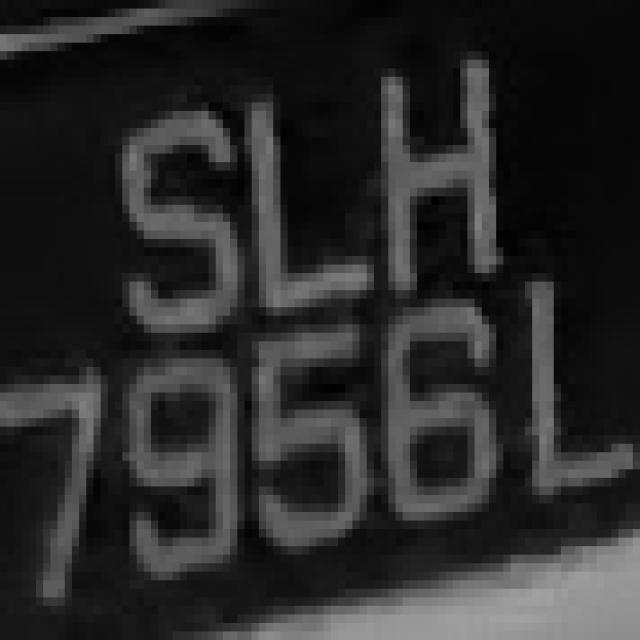5: (223, 307, 395, 563)
6: (352, 290, 497, 546)
7: (7, 350, 108, 640)
9: (108, 341, 252, 623)
H: (338, 51, 518, 307)
L: (230, 77, 381, 324), (518, 256, 633, 529)
S: (100, 85, 252, 367)
